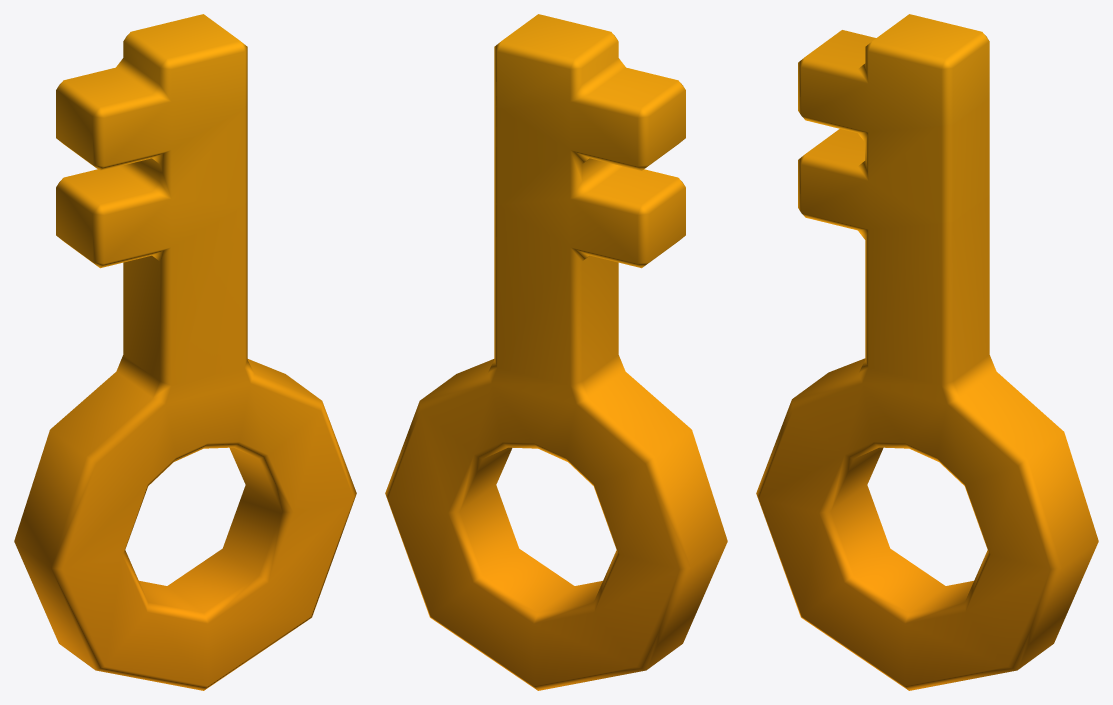
File: MEC0210003.fbx
3 renders of one model, left to right at view 1: azimuth 30°, elevation 25°; view 2: azimuth 150°, elevation 25°; view 3: azimuth 330°, elevation 25°, orthographic.
Parts seen in each view (by area): view 1: smMEC0210003; view 2: smMEC0210003; view 3: smMEC0210003.
Boxes of the visible parts, x1,y1,x2,y2 form: smMEC0210003: [14, 14, 356, 690]; smMEC0210003: [385, 14, 727, 690]; smMEC0210003: [756, 14, 1098, 690].
Bounding box in the file's own units: 32.2 × 64.47 × 8.24.
1 material, 1 textured.
